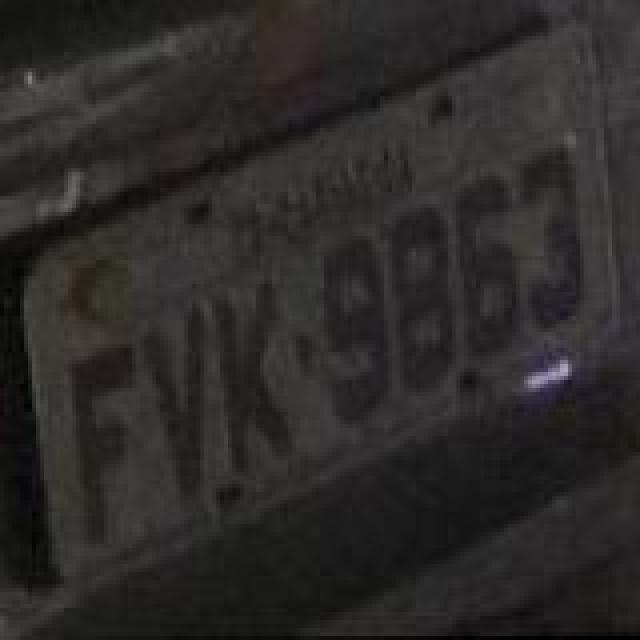3: (518, 142, 586, 330)
6: (454, 176, 522, 364)
8: (386, 212, 462, 400)
9: (318, 228, 394, 424)
F: (66, 346, 142, 550)
K: (212, 282, 300, 474)
V: (142, 306, 210, 506)
